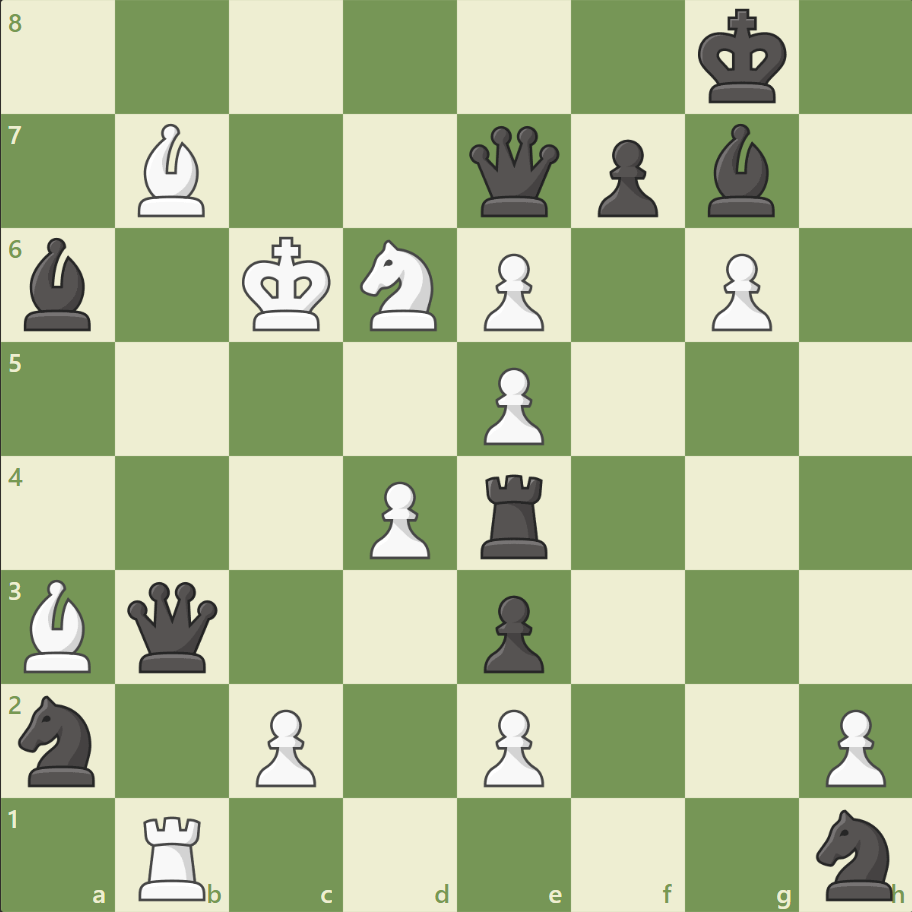B: (131, 120, 215, 222), (17, 574, 101, 676)
K: (238, 231, 338, 339)
N: (351, 234, 449, 337)
P: (474, 246, 549, 337), (701, 246, 776, 337), (474, 359, 549, 450), (247, 700, 322, 791), (474, 700, 549, 791), (361, 473, 435, 564), (815, 700, 889, 791)
R: (133, 806, 215, 904)
b: (17, 233, 101, 336), (698, 120, 782, 222)
k: (692, 4, 792, 112)
n: (11, 688, 108, 791), (806, 802, 903, 904)
p: (474, 586, 549, 677), (588, 132, 662, 223)
q: (464, 122, 563, 222), (124, 576, 223, 676)
r: (473, 466, 556, 563)
